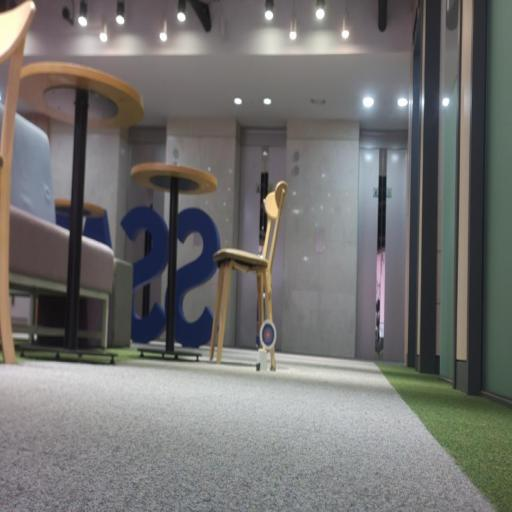target: (260, 319, 276, 350)
